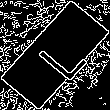L_NW: (24, 27, 86, 83)
